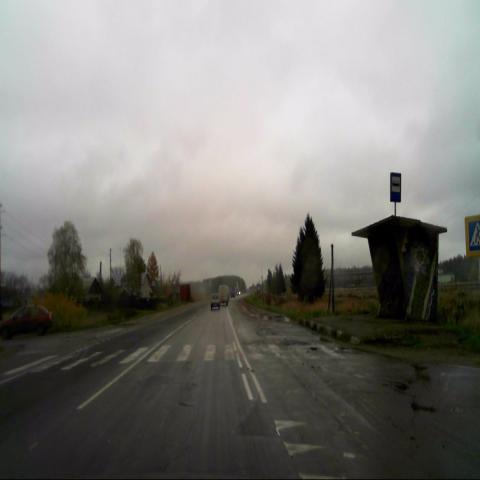5_16: (390, 172, 401, 203)
